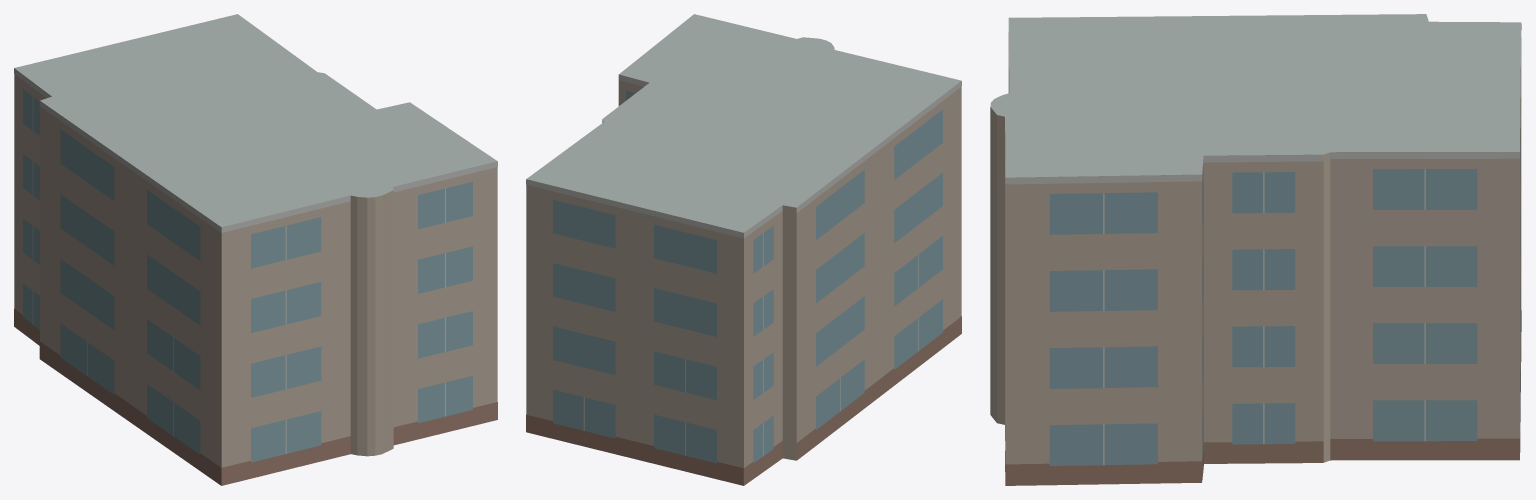
File: survey-upis-32501033.glb
3 renders of one model, left to right at view 1: azimuth 30°, elevation 25°; view 2: azimuth 150°, elevation 25°; view 3: azimuth 270°, elevation 25°, orthographic. The views are drawn at different scales.
Parts seen in each view (by area): view 1: survey-upis-32501033.tmp; view 2: survey-upis-32501033.tmp; view 3: survey-upis-32501033.tmp.
Boxes of the visible parts, left/top/right/bottom form: survey-upis-32501033.tmp: left=14, top=14, right=497, bottom=485; survey-upis-32501033.tmp: left=526, top=14, right=961, bottom=485; survey-upis-32501033.tmp: left=990, top=14, right=1521, bottom=485.
Bounding box in the file's own units: 12.53 × 11 × 17.17.
